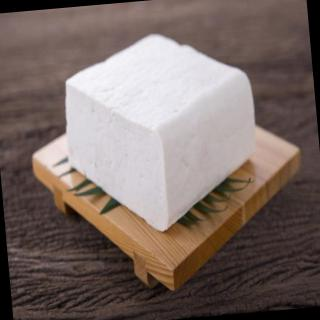Tahu: (37, 19, 284, 232)
